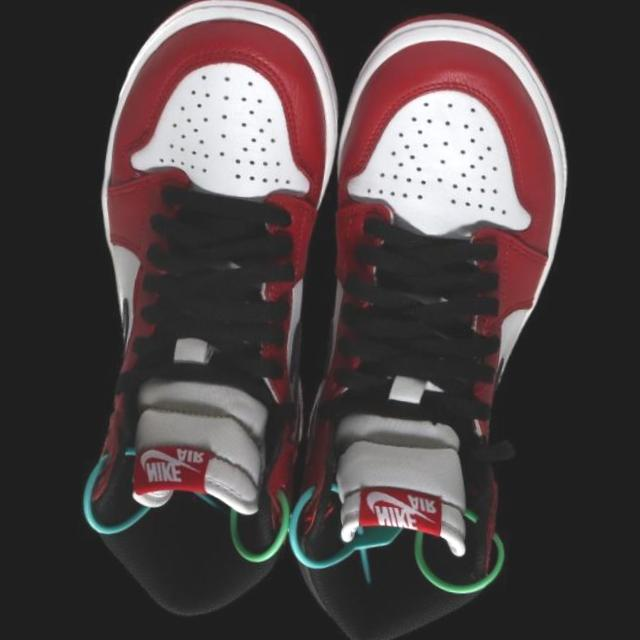nike_original_jordan: (276, 0, 591, 640), (54, 0, 354, 632)
